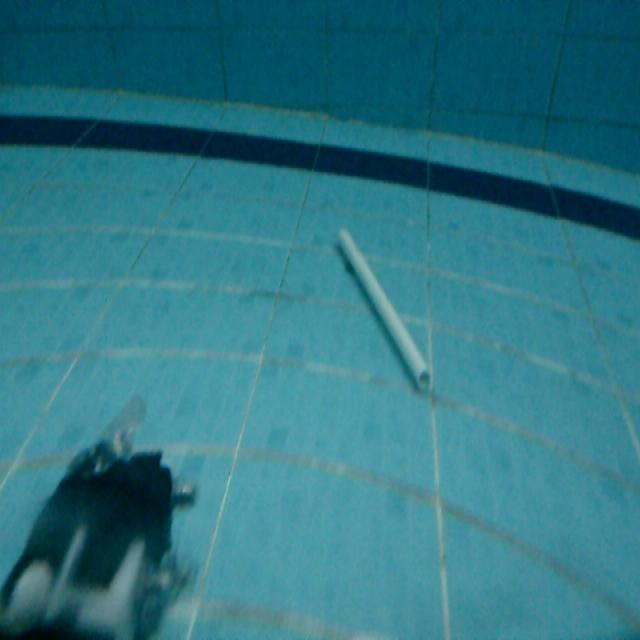Cube: (332, 221, 435, 396)
